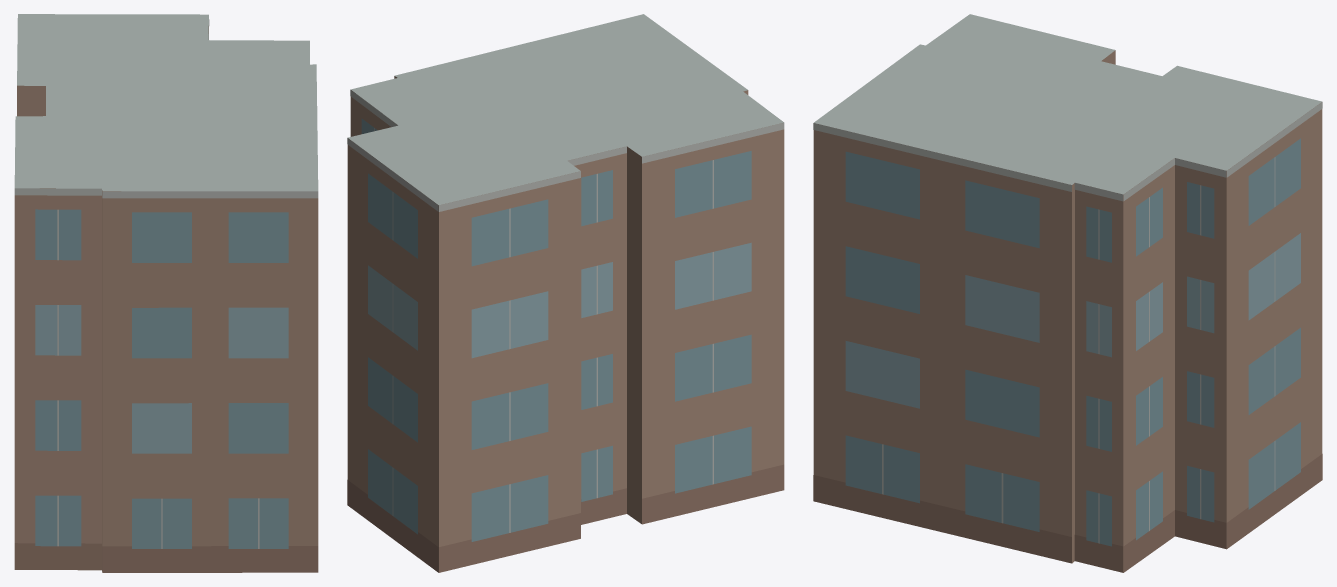
Rendered from survey-upis-32658607.glb.
The picture shows the model from 3 angles, left to right: view 1: azimuth 30°, elevation 25°; view 2: azimuth 150°, elevation 25°; view 3: azimuth 270°, elevation 25°; orthographic projection. The views are drawn at different scales.
Visible parts, largest first — view 1: survey-upis-32658607.tmp; view 2: survey-upis-32658607.tmp; view 3: survey-upis-32658607.tmp.
Boxes of the visible parts, x1,y1,x2,y2 form: survey-upis-32658607.tmp: (14, 14, 318, 572); survey-upis-32658607.tmp: (347, 14, 784, 572); survey-upis-32658607.tmp: (813, 14, 1322, 572).
Bounding box in the file's own units: 13.46 × 13.15 × 16.04.
